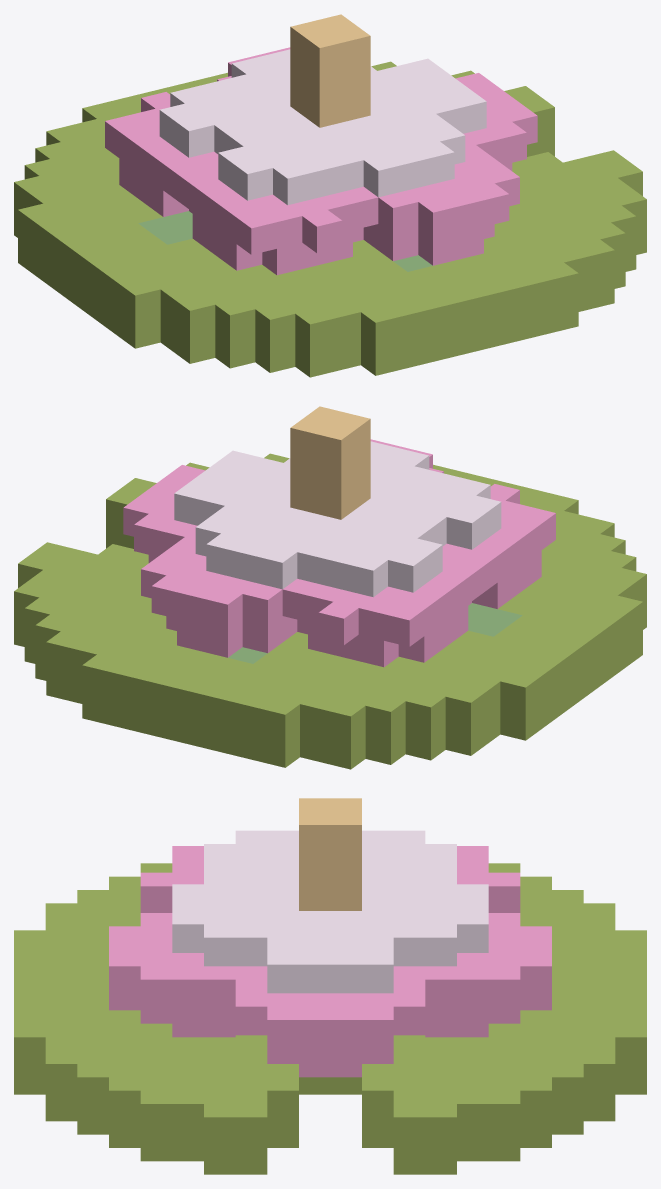
File: lotus_flower.glb
3 views of the same model, one above another, from view 1: azimuth 30°, elevation 25°; view 2: azimuth 150°, elevation 25°; view 3: azimuth 270°, elevation 25° (orthographic). The views are drawn at different scales.
Bounding box in the file's own units: 0.8333 × 0.3333 × 0.8333.
